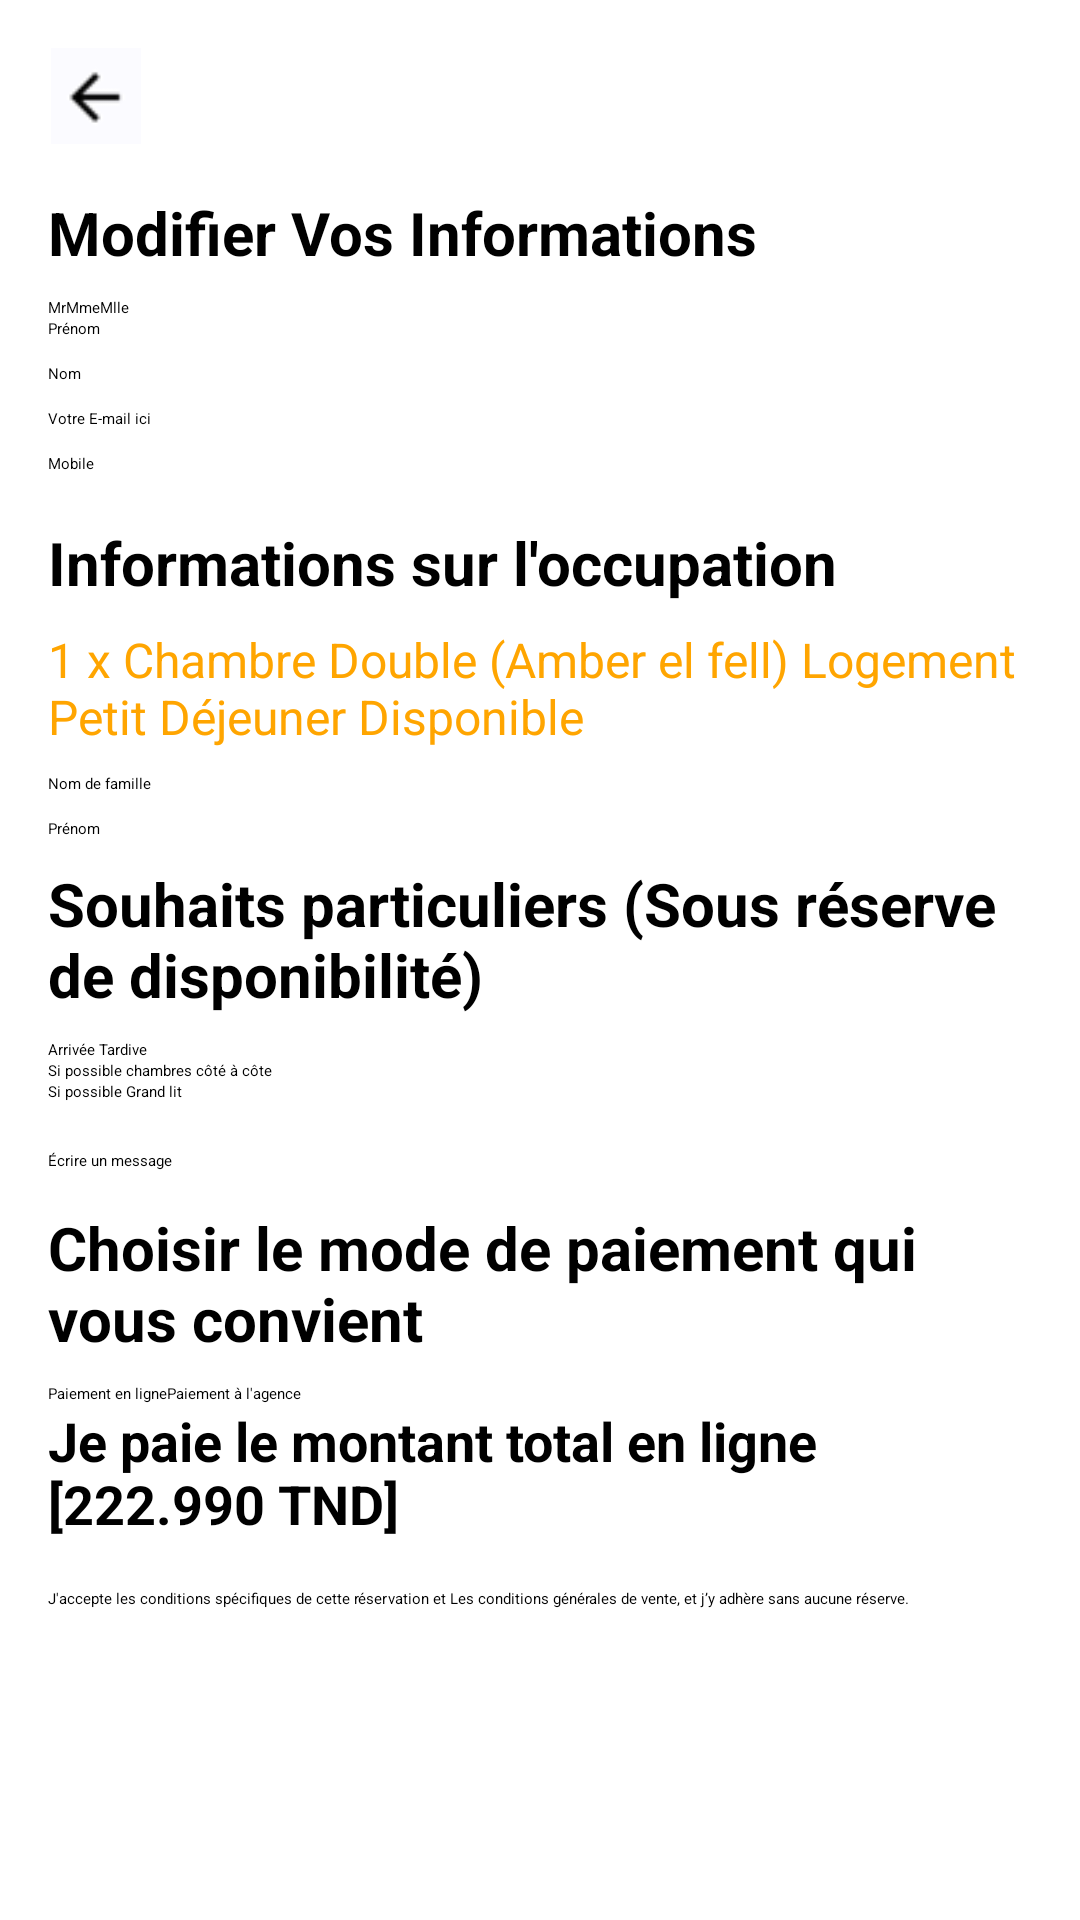

Named icons in this screenshot (1080 x 1920) and their bounding boxes, bbox(x1, y1, x2, y2):
Back: bbox(69, 72, 121, 123)
